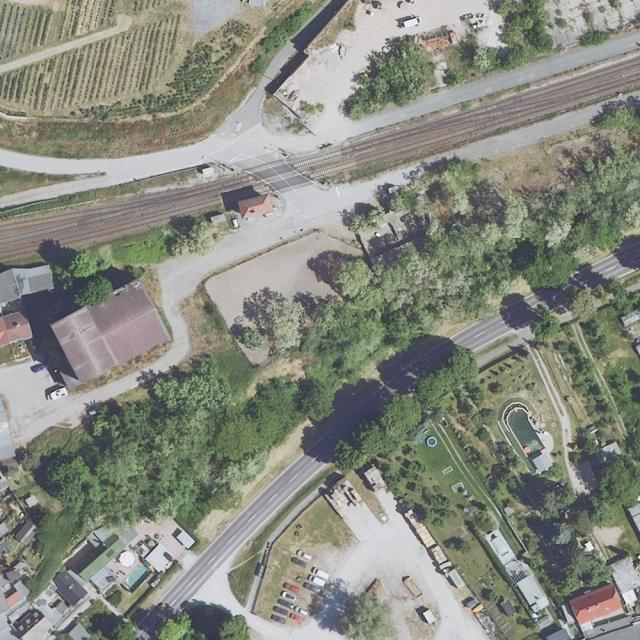ST: (90, 567, 109, 585)
